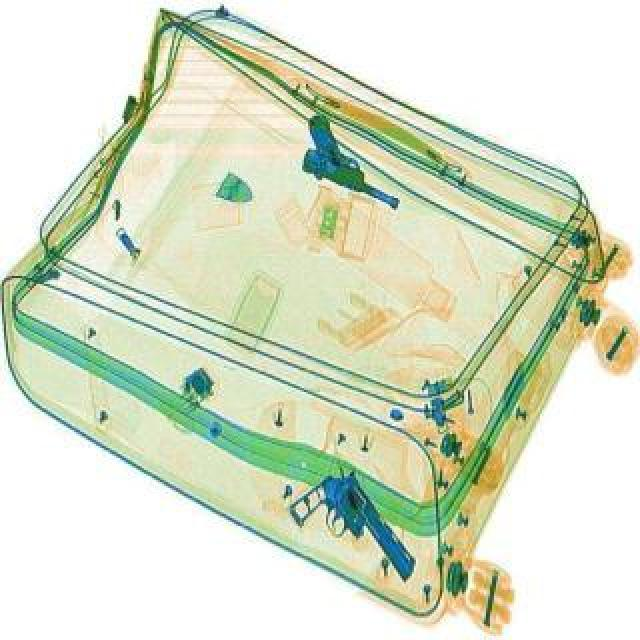gun: (282, 468, 422, 612), (286, 116, 422, 214)
